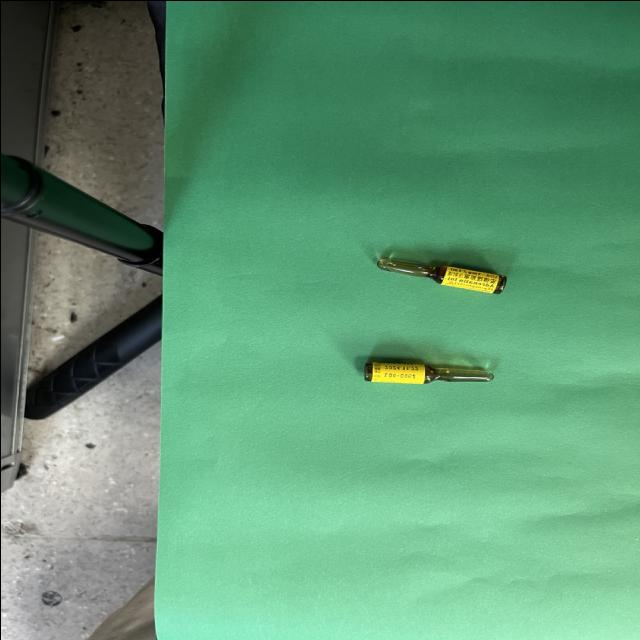Ampoules: (376, 258, 505, 293), (363, 360, 492, 383)
